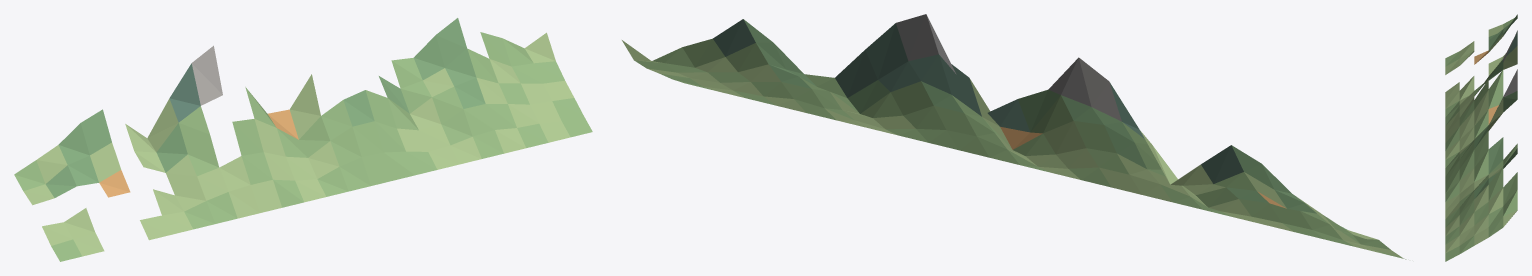
The model's file is bg_ridge_long.glb.
The picture shows the model from 3 angles, left to right: view 1: azimuth 30°, elevation 25°; view 2: azimuth 150°, elevation 25°; view 3: azimuth 270°, elevation 25°; orthographic projection. The views are drawn at different scales.
Parts seen in each view (by area): view 1: bg_ridge_long; view 2: bg_ridge_long; view 3: bg_ridge_long.
Boxes of the visible parts, x1,y1,x2,y2 form: bg_ridge_long: (14, 18, 592, 261); bg_ridge_long: (622, 14, 1406, 259); bg_ridge_long: (1445, 14, 1517, 261).
Size of the model in its own units: 400 by 99.31 by 60.
